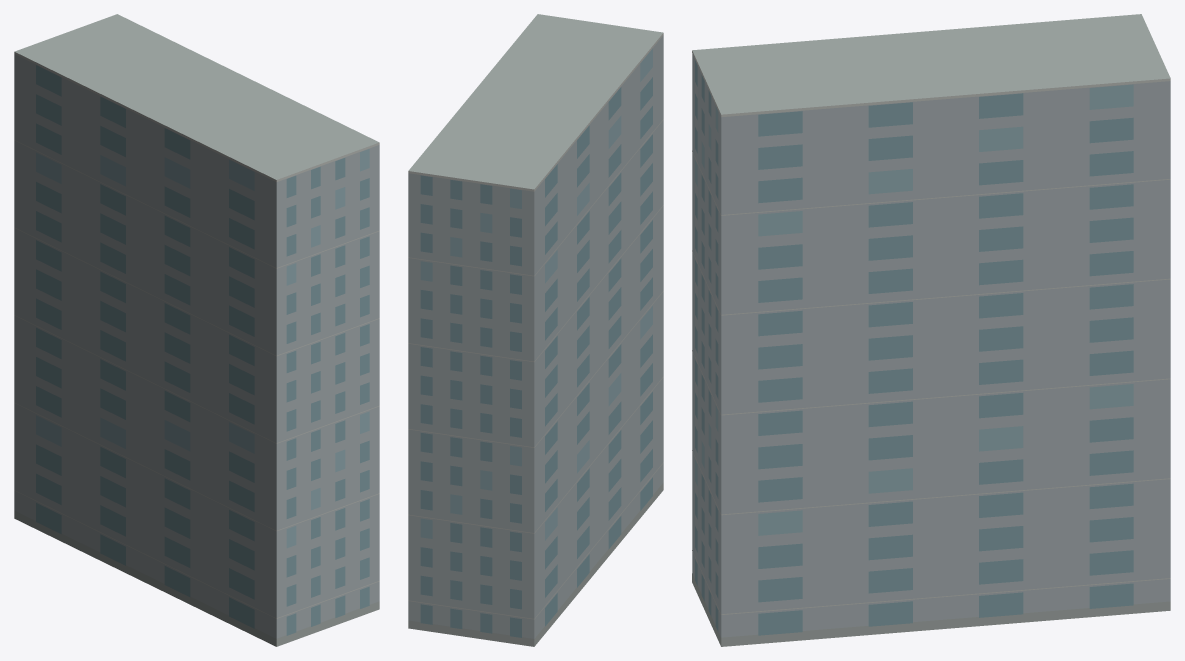
The model's file is residential-4f565b3f-6d6d-43da-bead-dea6d2148fd0.glb.
3 views of the same model, side by side, from view 1: azimuth 30°, elevation 25°; view 2: azimuth 150°, elevation 25°; view 3: azimuth 270°, elevation 25° (orthographic). The views are drawn at different scales.
Parts seen in each view (by area): view 1: residential-4f565b3f-6d6d-43da-bead-dea6d2148fd0.tmp; view 2: residential-4f565b3f-6d6d-43da-bead-dea6d2148fd0.tmp; view 3: residential-4f565b3f-6d6d-43da-bead-dea6d2148fd0.tmp.
Part boxes in pixels (x1,y1,x2,y2): residential-4f565b3f-6d6d-43da-bead-dea6d2148fd0.tmp: [14, 14, 379, 646]; residential-4f565b3f-6d6d-43da-bead-dea6d2148fd0.tmp: [408, 14, 663, 646]; residential-4f565b3f-6d6d-43da-bead-dea6d2148fd0.tmp: [692, 14, 1170, 646].
Bounding box in the file's own units: 20.3 × 50 × 40.77.
